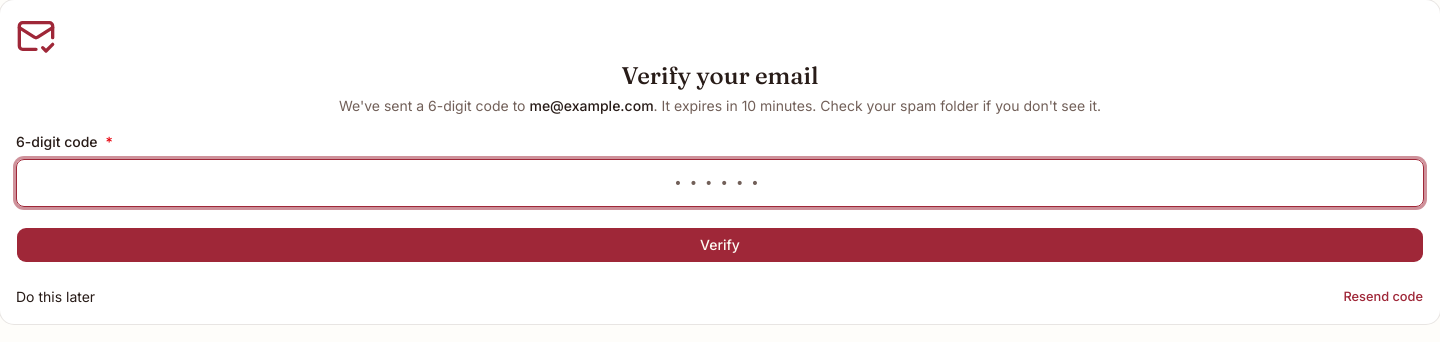
verify-email page (code entry) › signed-in member enters just the code
expect the text "me@example.com" is shown: met, box [530,97,654,114]
Type "123456" into the field labelled "6-digit code *" at (720, 183), box [16,159,1424,207]
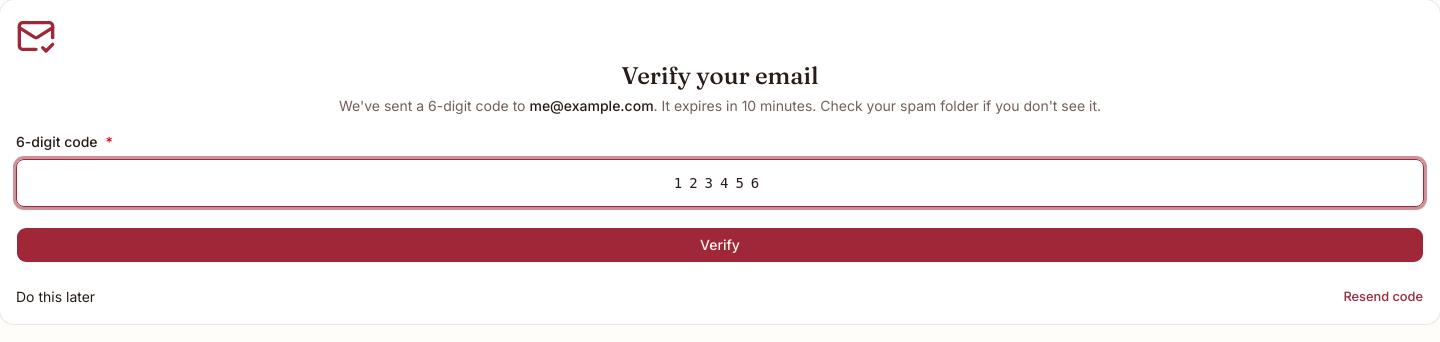
Click the button "Verify" at (720, 245), box [16,227,1424,263]
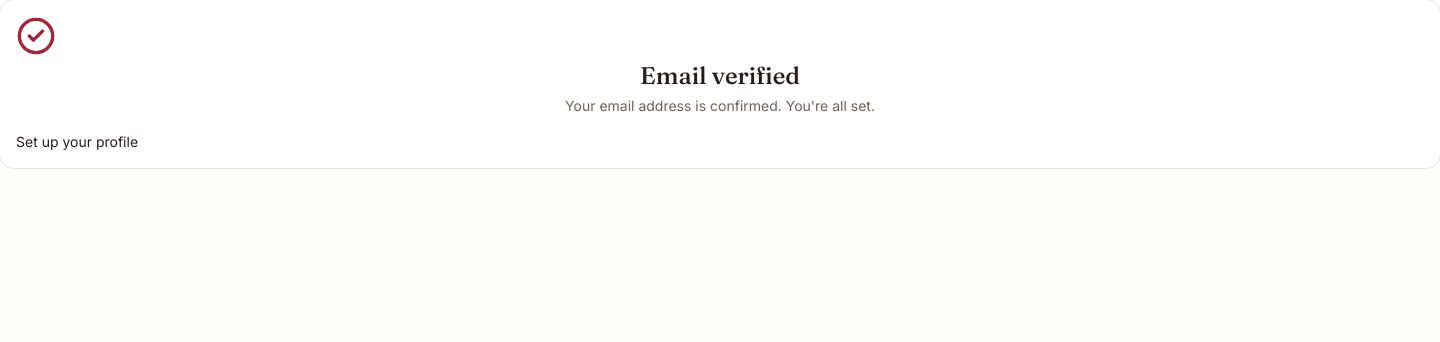
expect the heading "Email verified" is shown: met, box [640,61,800,90]
